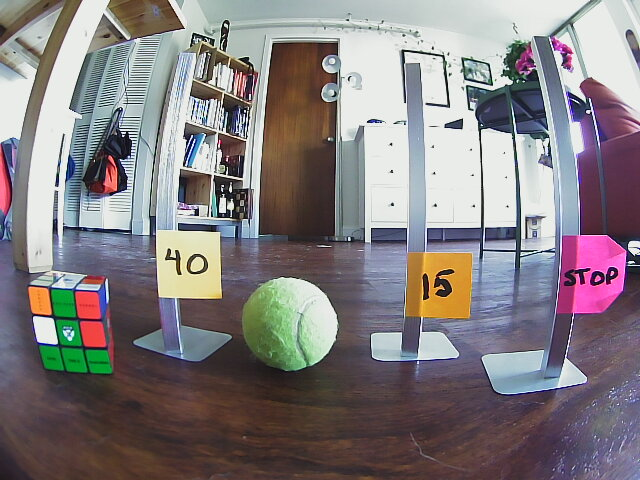15: (408, 254, 470, 316)
40: (159, 235, 220, 298)
ball: (239, 278, 341, 370)
cube: (23, 270, 117, 373)
stop: (563, 238, 617, 306)
